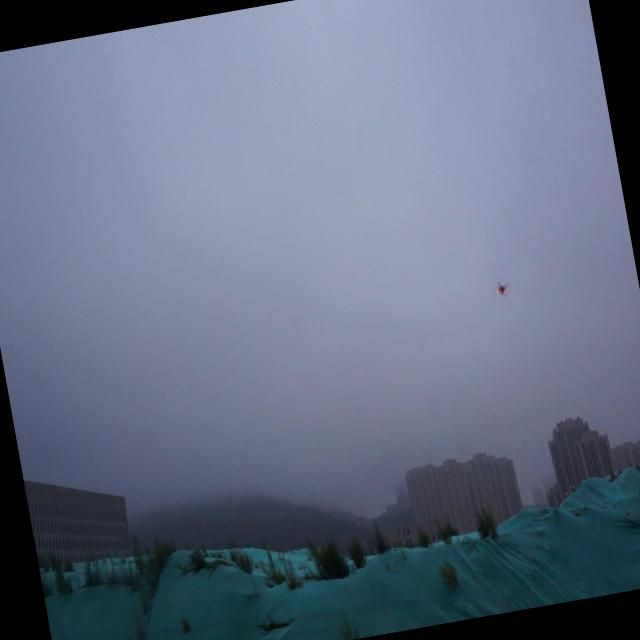drone: (490, 275, 511, 299)
